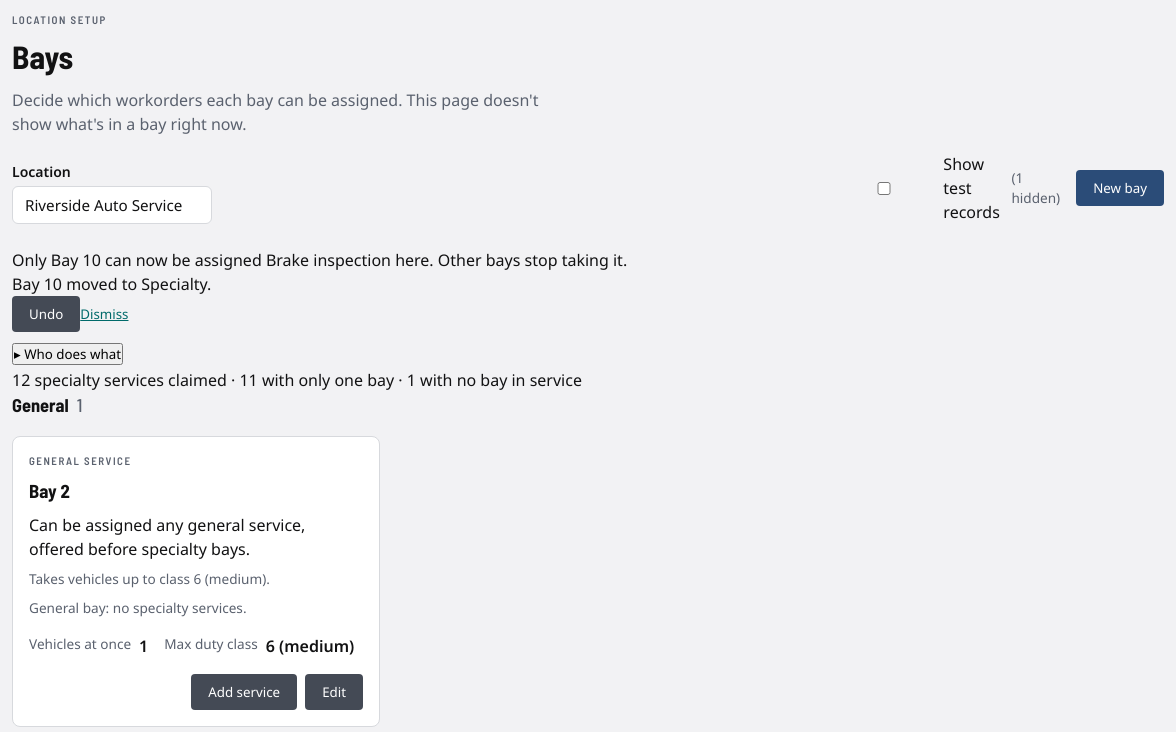
Test: BaysPageComponent › specialty services from the cards › saves a service dropped on a card, says what changed, moves the card, and can undo
Click the button with class "undo-btn".
click(46, 314)  # box [12,296,80,332]
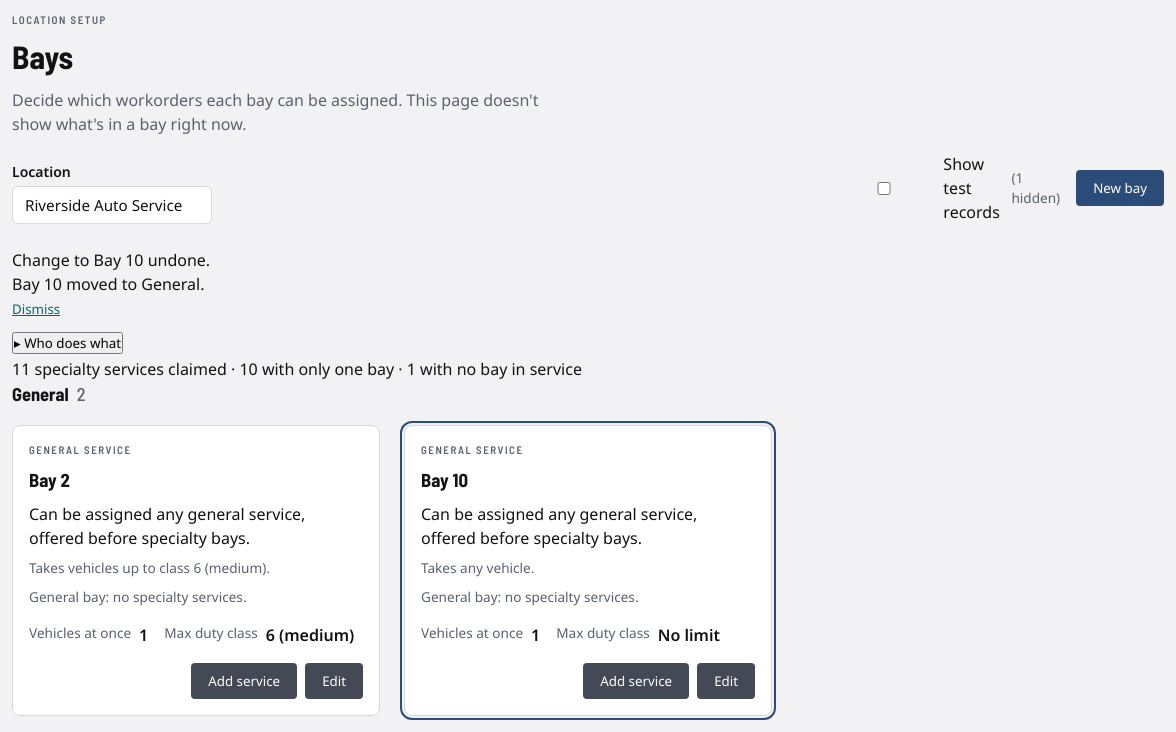
Check: the element with class "outcome" shows "Change to Bay 10 undone.", box [12,249,210,271]
Check: the button with class "undo-btn" is gone
